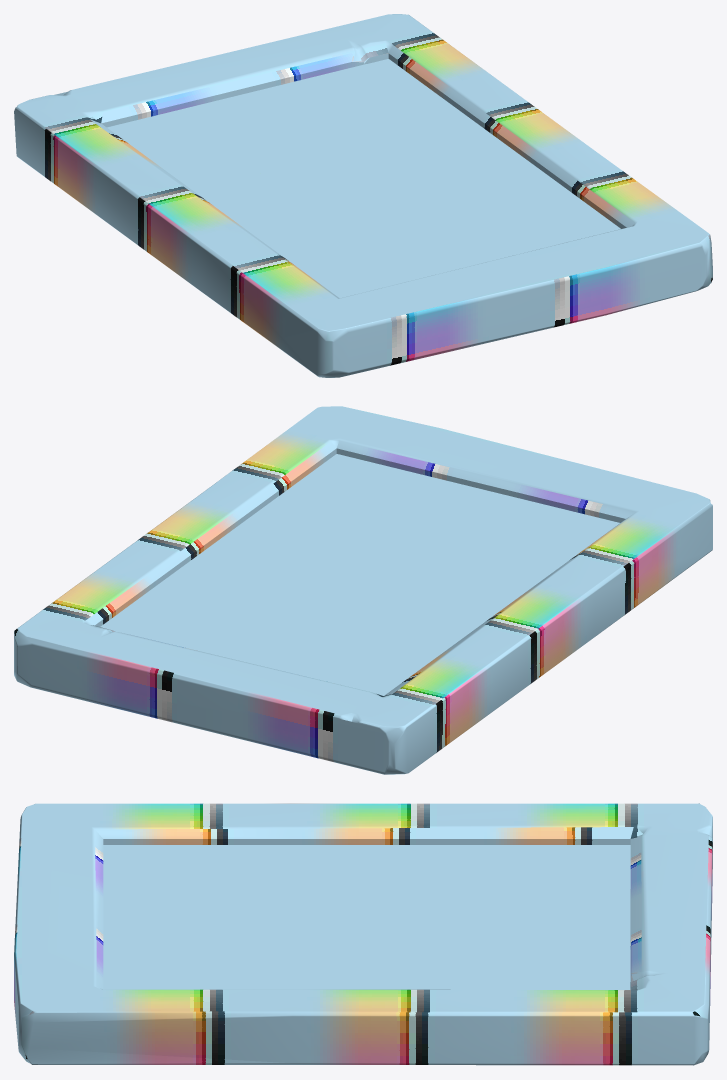
Rendered from Prop_TwinRibbon_Poster.glb.
3 views of the same model, one above another, from view 1: azimuth 30°, elevation 25°; view 2: azimuth 150°, elevation 25°; view 3: azimuth 270°, elevation 25° (orthographic). The views are drawn at different scales.
Parts seen in each view (by area): view 1: Prop_TwinRibbon_Poster; view 2: Prop_TwinRibbon_Poster; view 3: Prop_TwinRibbon_Poster.
Part boxes in pixels (<box>): Prop_TwinRibbon_Poster: <box>14,14,712,377</box>; Prop_TwinRibbon_Poster: <box>14,406,712,774</box>; Prop_TwinRibbon_Poster: <box>14,803,712,1065</box>.
Bounding box in the file's own units: 1.39 × 0.1674 × 1.95.
1 material, 1 textured.
